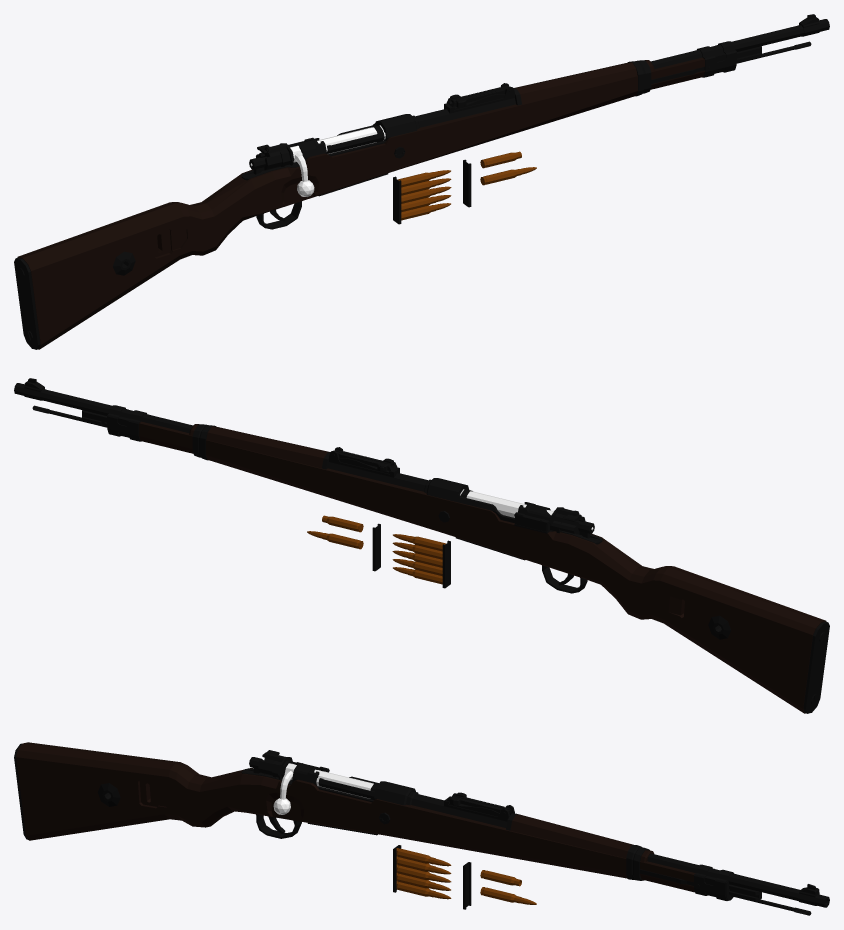
Rendered from kar98k.obj.
The picture shows the model from 3 angles, top to bottom: view 1: azimuth 30°, elevation 25°; view 2: azimuth 150°, elevation 25°; view 3: azimuth 330°, elevation 25°; orthographic projection.
Parts seen in each view (by area): view 1: gun_Cube, 79257_5rnd_clip_Cube.001, idk_for_bolt_Cylinder.009, bolt_Cylinder.008; view 2: gun_Cube, 79257_5rnd_clip_Cube.001, idk_for_bolt_Cylinder.009, bolt_Cylinder.008; view 3: gun_Cube, 79257_5rnd_clip_Cube.001, idk_for_bolt_Cylinder.009, bolt_Cylinder.008, 7.92x57_Cylinder.012, 79257_5rnd_clip_empty_Cube.002, 79257_Cylinder.004.
Part boxes in pixels (x1,y1,x2,y2): gun_Cube: (14,14,829,349); 79257_5rnd_clip_Cube.001: (393,170,451,224); idk_for_bolt_Cylinder.009: (249,125,384,174); bolt_Cylinder.008: (250,125,385,196); gun_Cube: (14,378,829,713); 79257_5rnd_clip_Cube.001: (392,534,450,588); idk_for_bolt_Cylinder.009: (461,489,594,538); bolt_Cylinder.008: (460,489,593,530); gun_Cube: (14,742,829,915); 79257_5rnd_clip_Cube.001: (393,845,451,899); idk_for_bolt_Cylinder.009: (249,752,378,799); bolt_Cylinder.008: (273,763,373,814); 7.92x57_Cylinder.012: (480,887,536,904); 79257_5rnd_clip_empty_Cube.002: (463,862,471,909); 79257_Cylinder.004: (480,870,521,886).
Bounding box in the file's own units: 12.18 × 2.14 × 0.6538.
